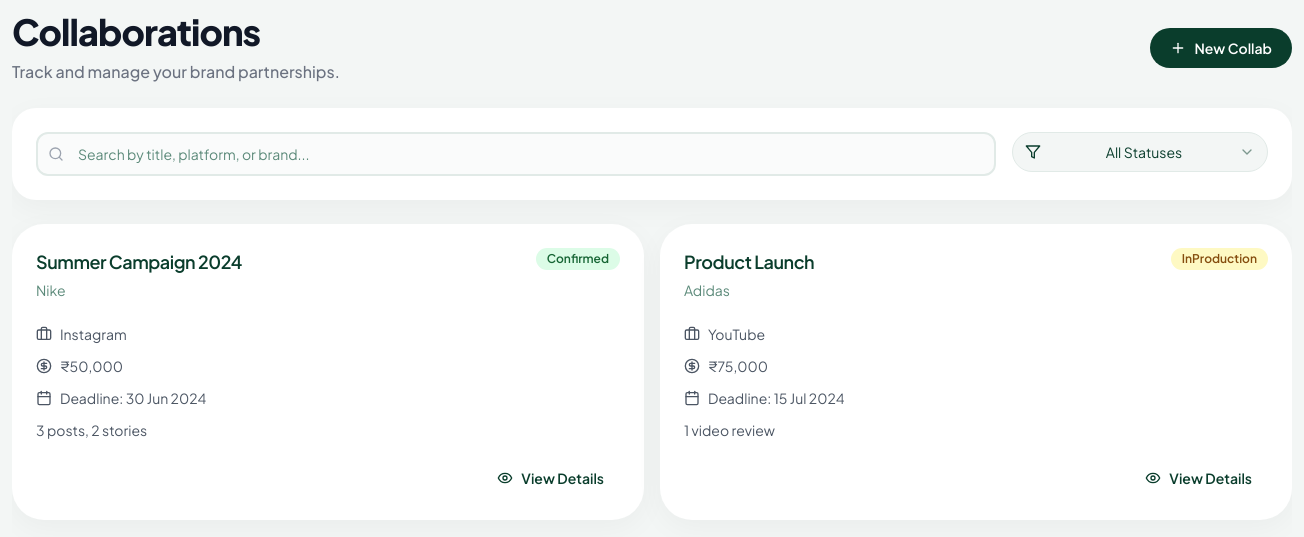
Test: CollaborationsPage › Collaboration Search and Filtering › should filter collaborations by status
Expected: the heading "Summer Campaign 2024" is shown, [36,250,242,273]
Note: Check that filter dropdown exists and change value
What coordinates should you click on to do the following:
click the dropdown
I would click on:
 (1140, 152)
Its box is [1012,132,1268,172].
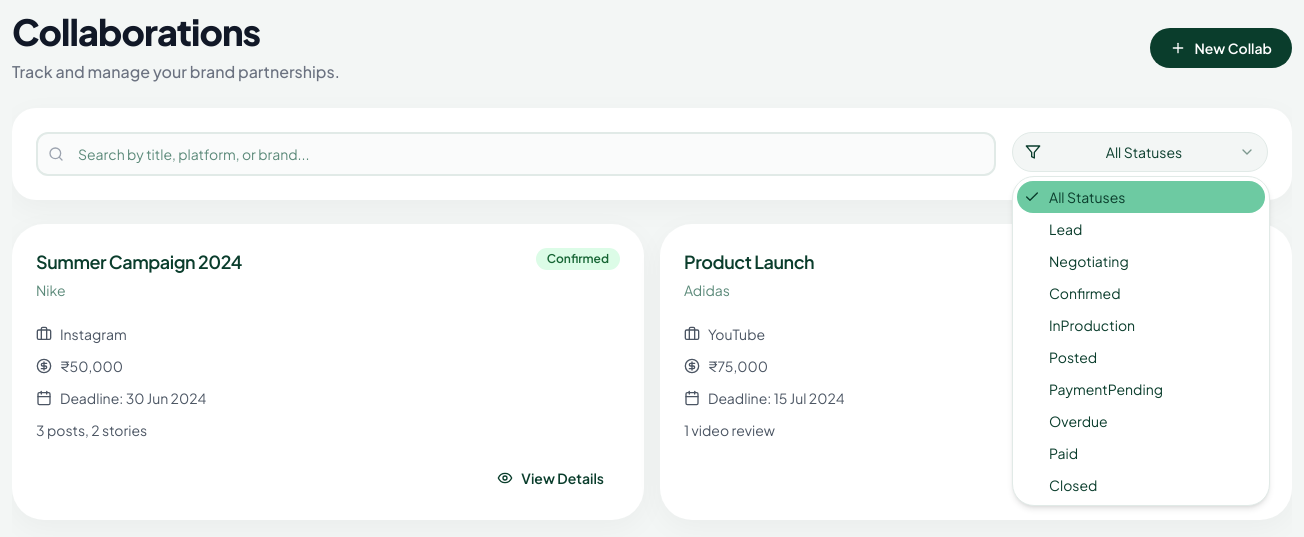
What coordinates should you click on to do the following:
click the option "Confirmed"
I would click on:
 (1085, 293)
Its box is [1049,284,1120,302].
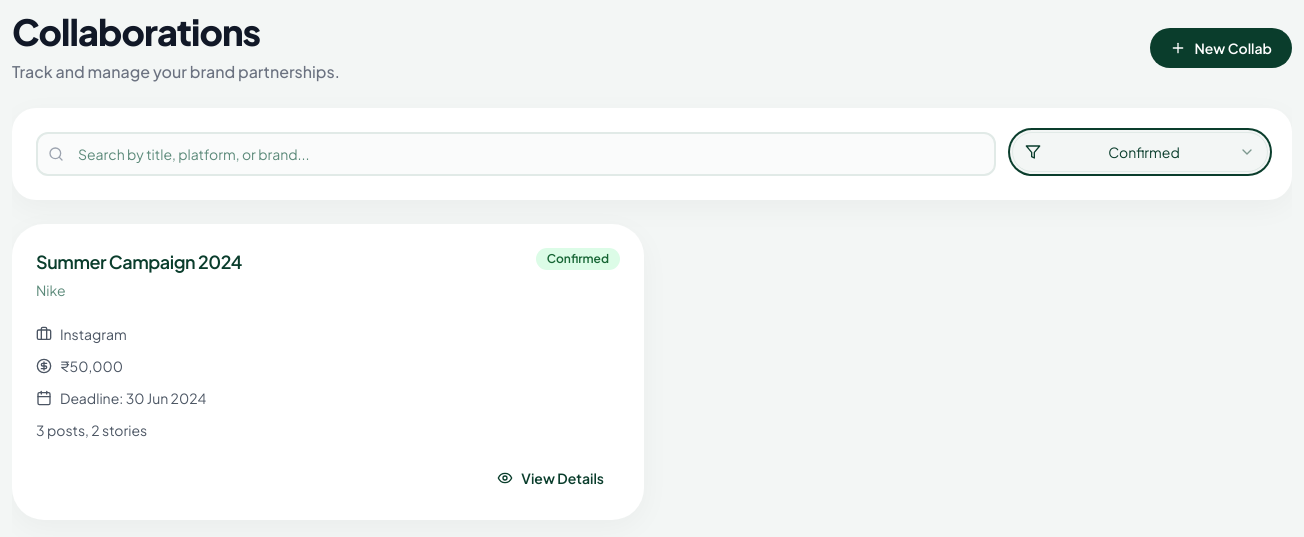
Expected: the heading "Summer Campaign 2024" is shown, [36,250,242,273]
Expected: the heading "Product Launch" is gone
